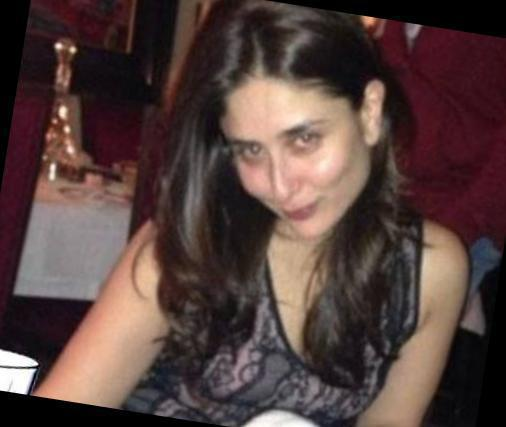Drunk: (219, 89, 364, 237)
